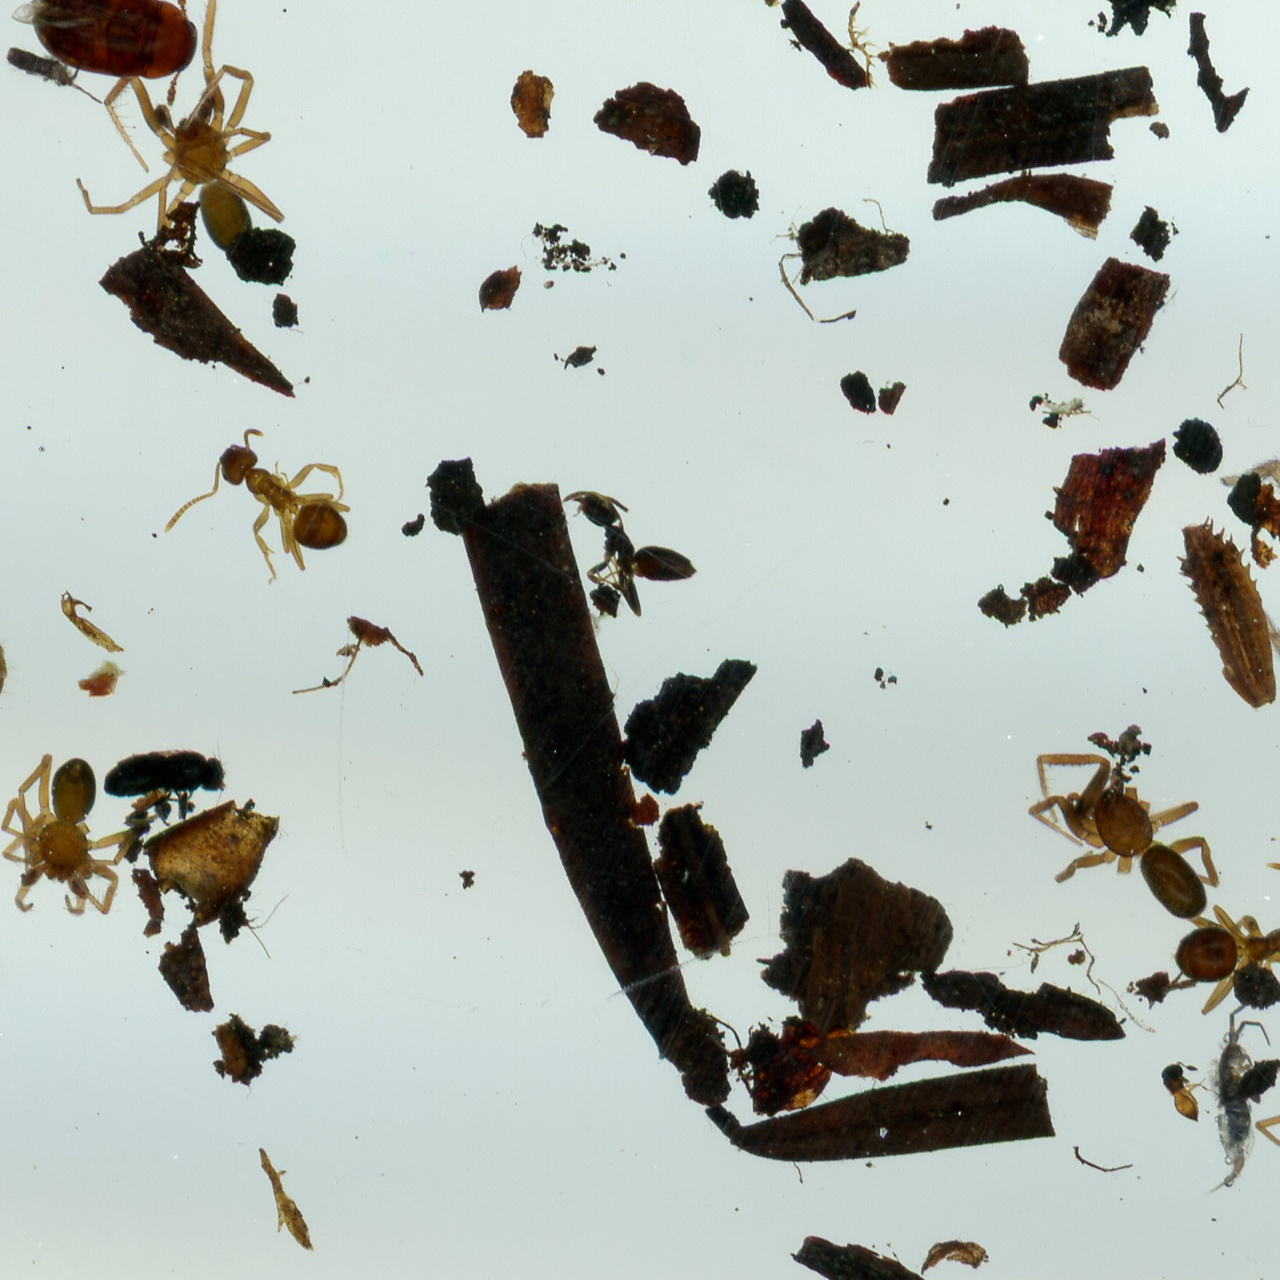arthropod: (80, 0, 311, 250), (1028, 741, 1217, 918), (162, 423, 352, 588), (0, 751, 132, 920), (1221, 416, 1280, 787), (1172, 859, 1280, 1028), (570, 488, 696, 619), (15, 0, 202, 88), (1212, 999, 1269, 1194), (103, 749, 233, 809), (0, 42, 101, 109), (1162, 1058, 1210, 1126)
